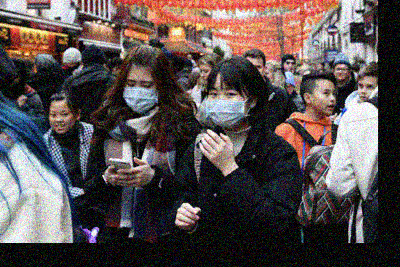with_mask: (204, 84, 245, 128), (122, 77, 157, 115)
without_mask: (312, 85, 336, 116), (47, 107, 74, 134), (356, 81, 376, 101), (332, 64, 348, 81), (198, 67, 211, 84), (282, 61, 295, 72)
